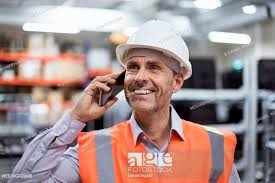Person_wearing_helmet: (115, 21, 189, 74)
